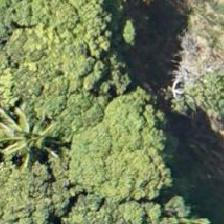coconut_tree: (0, 93, 74, 183)
